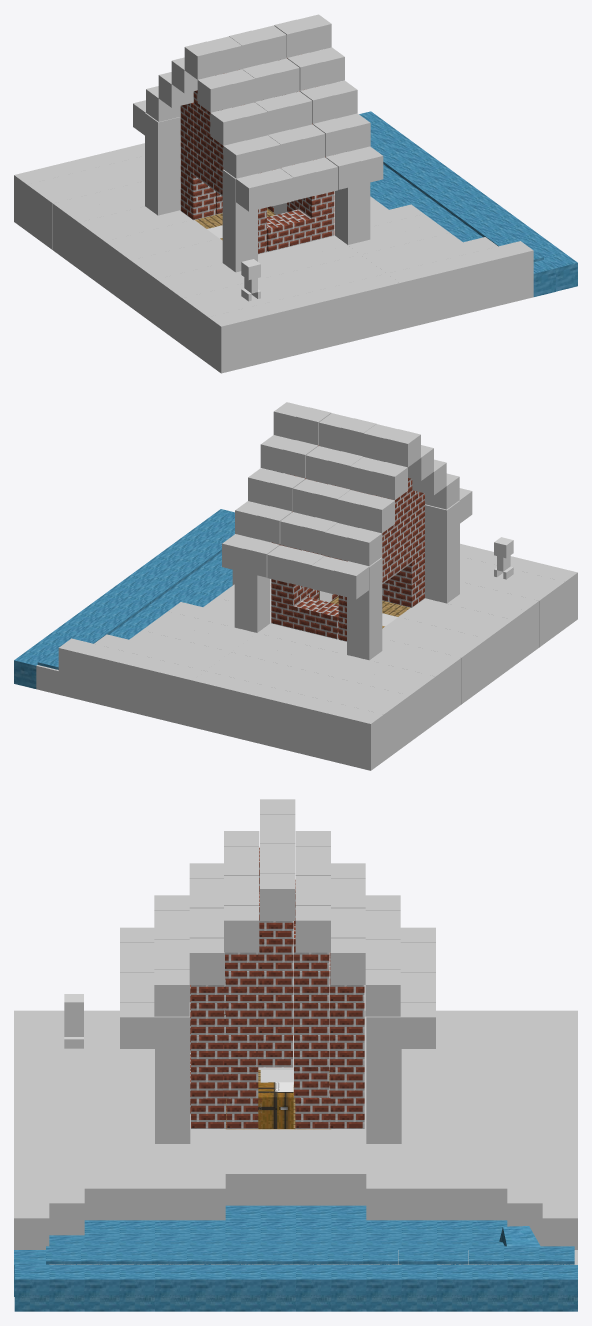
Rendered from creeper_texture_embeded.fbx.
3 renders of one model, top to bottom at view 1: azimuth 30°, elevation 25°; view 2: azimuth 150°, elevation 25°; view 3: azimuth 270°, elevation 25°, orthographic. The views are drawn at different scales.
Parts seen in each view (by area): view 1: Cube.553, Cube.567, Cube.570, Cube.568, Cube.569, Cube.345, Cube.534, Cube.545, Cube.533, Cube.532, Cube.120, Cube.457 (+82 smaller); view 2: Cube.482, Cube.449, Cube.530, Cube.553, Cube.490, Cube.539, Cube.535, Cube.493, Cube.453, Cube.255, Cube.452, Cube.463 (+82 smaller); view 3: Cube.258, Cube.356, Cube.358, Cube.359, Cube.261, Cube.263, Cube.264, Cube.262, Cube.357, Cube.130, Cube.132, Cube.003 (+82 smaller).
Part boxes in pixels (bbox=[...]): Cube.553: bbox=[184, 41, 219, 79]; Cube.567: bbox=[236, 173, 271, 211]; Cube.570: bbox=[197, 74, 232, 112]; Cube.568: bbox=[223, 140, 258, 178]; Cube.569: bbox=[210, 107, 245, 145]; Cube.345: bbox=[208, 312, 243, 349]; Cube.534: bbox=[287, 52, 322, 90]; Cube.545: bbox=[274, 19, 309, 57]; Cube.533: bbox=[300, 85, 335, 123]; Cube.532: bbox=[313, 118, 348, 156]; Cube.120: bbox=[208, 341, 243, 373]; Cube.457: bbox=[145, 160, 180, 192]; Cube.482: bbox=[372, 462, 407, 500]; Cube.449: bbox=[348, 709, 383, 747]; Cube.530: bbox=[347, 528, 382, 565]; Cube.553: bbox=[385, 429, 420, 467]; Cube.490: bbox=[359, 495, 394, 533]; Cube.539: bbox=[334, 561, 368, 599]; Cube.535: bbox=[244, 539, 279, 577]; Cube.493: bbox=[257, 506, 292, 544]; Cube.453: bbox=[347, 628, 382, 660]; Cube.255: bbox=[348, 738, 383, 770]; Cube.452: bbox=[234, 600, 269, 632]; Cube.463: bbox=[425, 501, 459, 533]; Cube.258: bbox=[49, 1188, 84, 1235]; Cube.356: bbox=[366, 1173, 401, 1220]; Cube.358: bbox=[437, 1173, 472, 1220]; Cube.359: bbox=[472, 1173, 507, 1220]; Cube.261: bbox=[84, 1173, 119, 1220]; Cube.263: bbox=[155, 1173, 190, 1220]; Cube.264: bbox=[190, 1173, 225, 1220]; Cube.262: bbox=[119, 1173, 154, 1220]; Cube.357: bbox=[401, 1173, 436, 1220]; Cube.130: bbox=[366, 1264, 401, 1311]; Cube.132: bbox=[437, 1264, 472, 1311]; Cube.003: bbox=[119, 1264, 154, 1311].
Bounding box in the file's own units: 3183 × 2000 × 3200.
8 materials, 4 textured.
